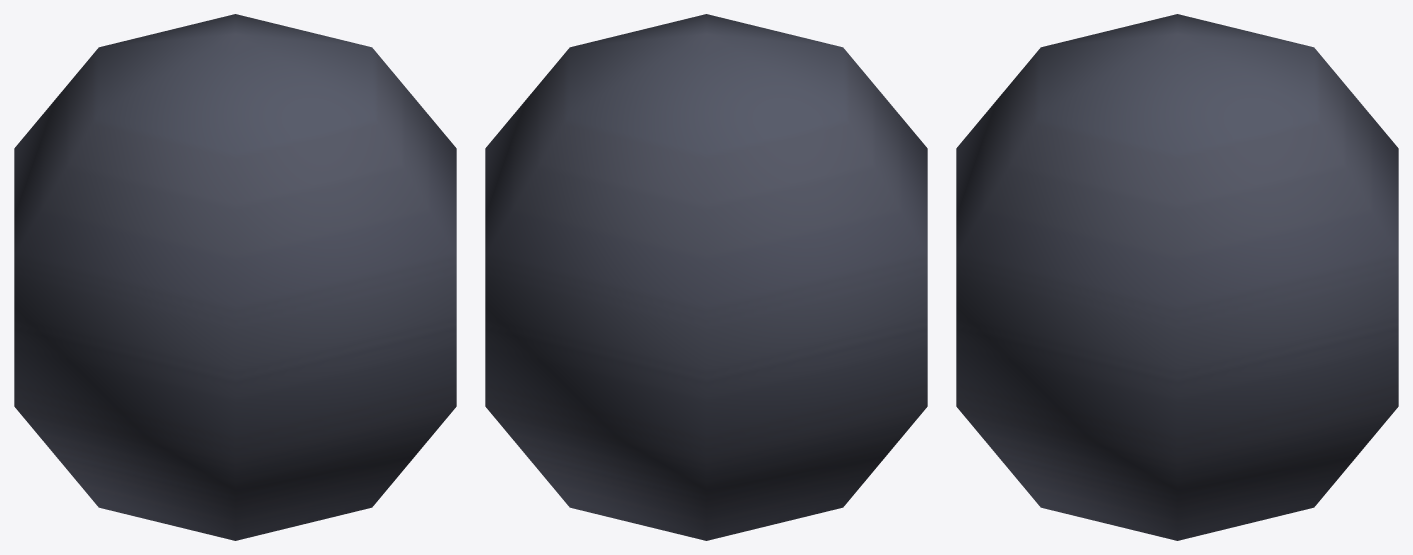
The model's file is canon.obj.
The picture shows the model from 3 angles, left to right: view 1: azimuth 30°, elevation 25°; view 2: azimuth 150°, elevation 25°; view 3: azimuth 270°, elevation 25°; orthographic projection.
Parts seen in each view (by area): view 1: cannon-ball; view 2: cannon-ball; view 3: cannon-ball.
Boxes of the visible parts, x1,y1,x2,y2 form: cannon-ball: (14,14,456,540); cannon-ball: (485,14,927,540); cannon-ball: (956,14,1398,540).
Size of the model in its own units: 0.1352 by 0.1421 by 0.1171.
Materials: 1 (1 with a texture image).
